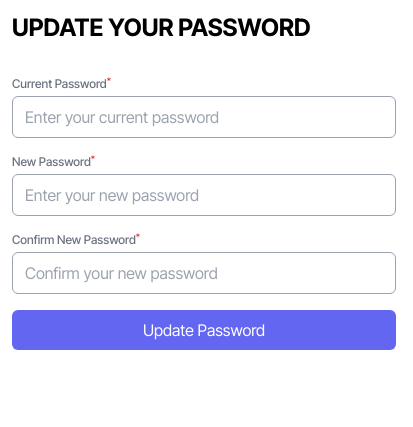
Test: UpdatePasswordForm component › displays error messages when form is submitted with invalid data
Click the button with test id "submit-button" at [204, 330], box [12,310,396,350]
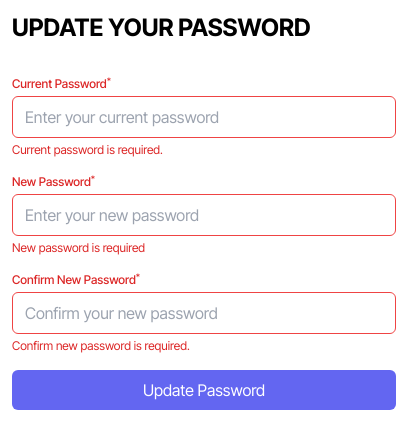
Check: the text "Current password is required." is shown, box [12,142,163,157]
Check: the text "New password is required" is shown, box [12,240,145,255]
Check: the text "Confirm new password is required." is shown, box [12,338,190,353]
